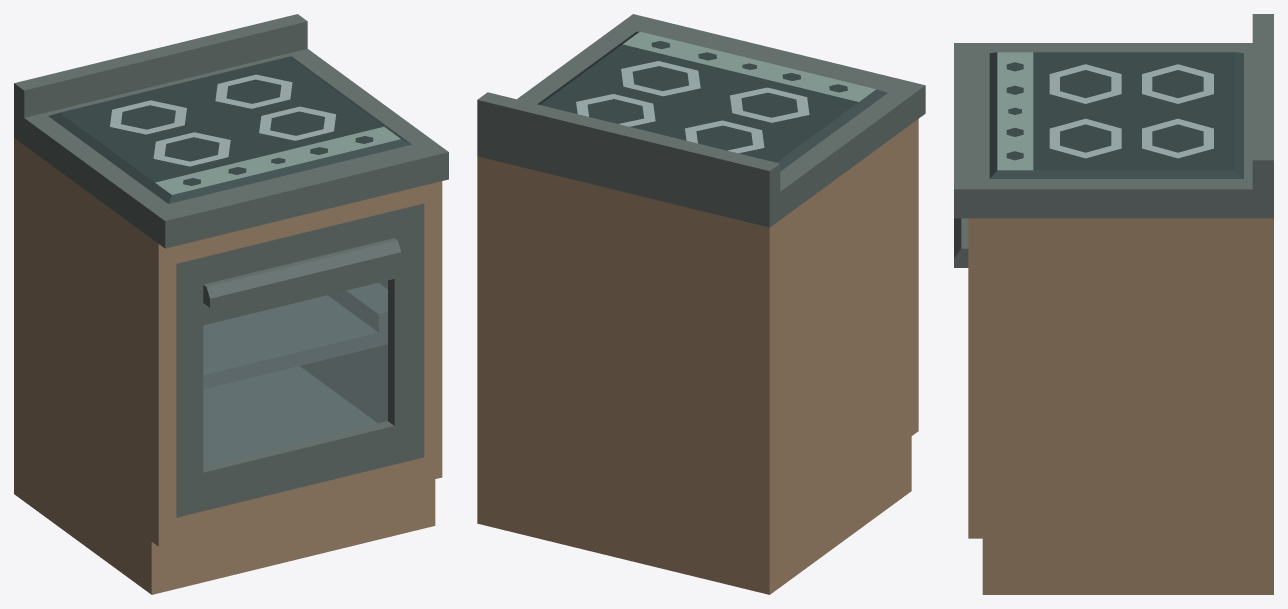
Rendered from induction_cooktop.glb.
3 renders of one model, left to right at view 1: azimuth 30°, elevation 25°; view 2: azimuth 150°, elevation 25°; view 3: azimuth 270°, elevation 25°, orthographic. The views are drawn at different scales.
Visible parts, largest first — view 1: kitchenStoveElectric(Clone); view 2: kitchenStoveElectric(Clone); view 3: kitchenStoveElectric(Clone).
Boxes of the visible parts, bbox=[...] form: kitchenStoveElectric(Clone): bbox=[14, 14, 448, 594]; kitchenStoveElectric(Clone): bbox=[477, 14, 925, 594]; kitchenStoveElectric(Clone): bbox=[954, 14, 1273, 594].
Bounding box in the file's own units: 0.65 × 0.9 × 0.6.
